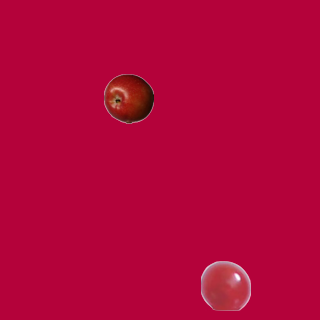Apple Braeburn: (103, 73, 153, 123)
Redcurrant: (200, 260, 250, 310)
